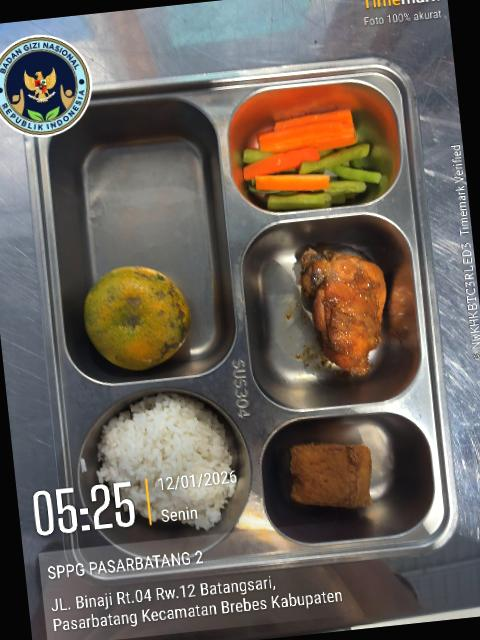ayam: (301, 248, 386, 376)
buah: (85, 266, 191, 370)
nasi: (97, 393, 237, 531)
sayur: (243, 108, 369, 210)
tahu: (291, 443, 372, 508)
